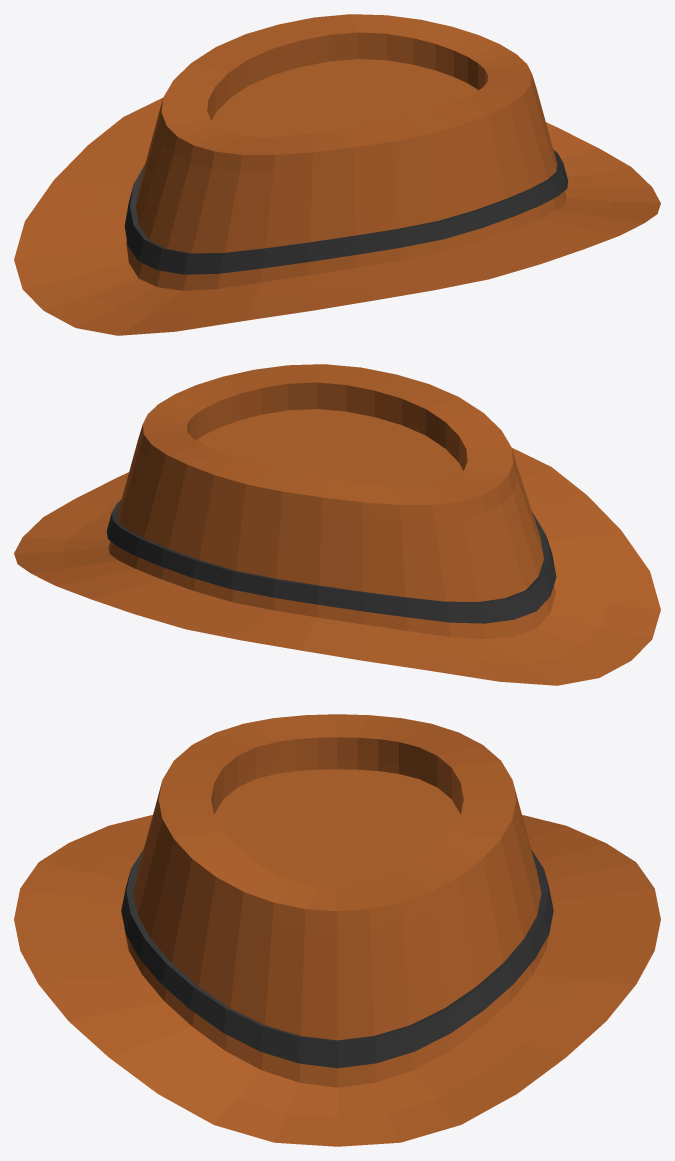
Rendered from chapeau.glb.
3 renders of one model, top to bottom at view 1: azimuth 30°, elevation 25°; view 2: azimuth 150°, elevation 25°; view 3: azimuth 270°, elevation 25°, orthographic. The views are drawn at different scales.
Visible parts, largest first — view 1: Cylindre; view 2: Cylindre; view 3: Cylindre.
Part boxes in pixels (x1,y1,x2,y2): Cylindre: (14,14,660,335); Cylindre: (14,364,660,685); Cylindre: (14,714,660,1146).
Size of the model in its own units: 1.1 by 0.2774 by 0.8773.
